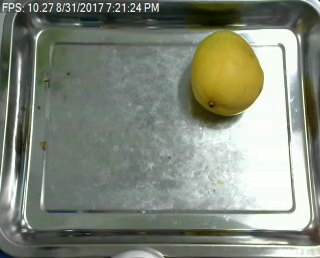Mango: (188, 27, 264, 115)
